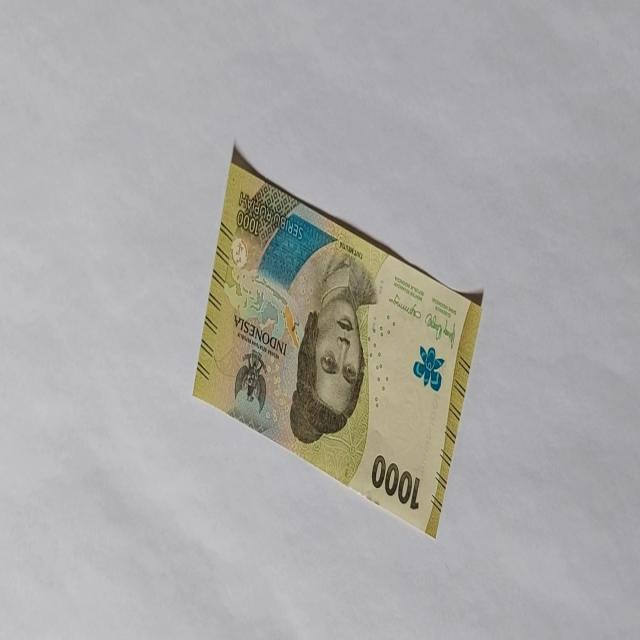seribu rupiah kertas: (192, 146, 484, 540)
